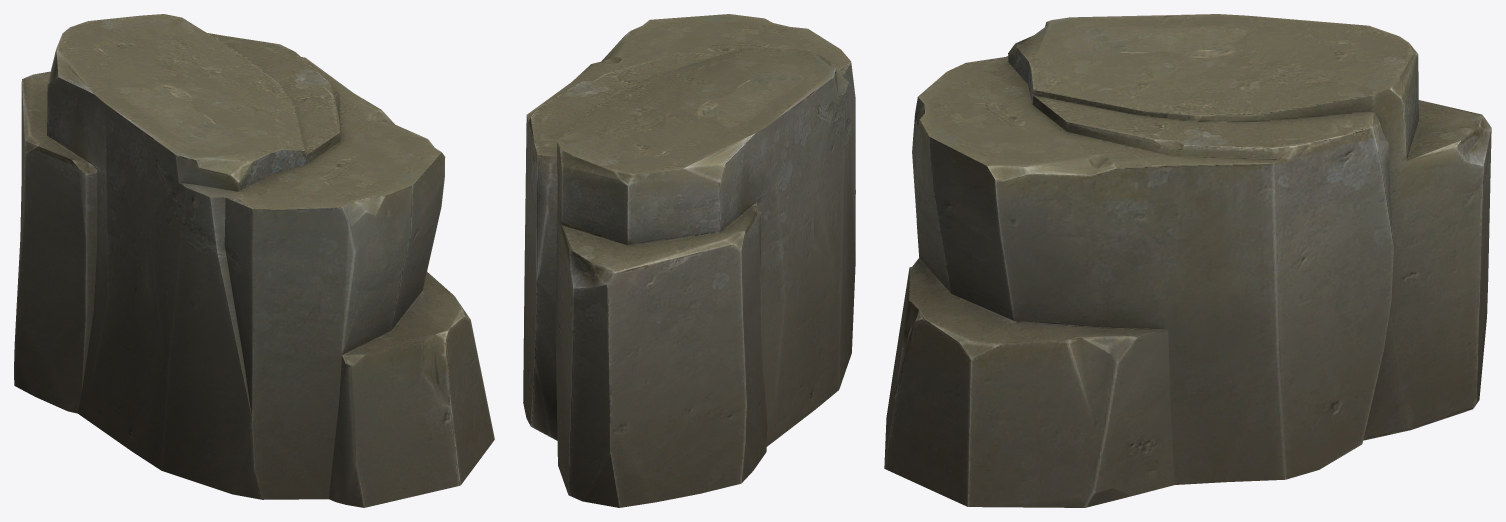
The model's file is riveredge_rock009a.fbx.
The picture shows the model from 3 angles, left to right: view 1: azimuth 30°, elevation 25°; view 2: azimuth 150°, elevation 25°; view 3: azimuth 270°, elevation 25°; orthographic projection. The views are drawn at different scales.
Parts seen in each view (by area): view 1: riveredge_rock009a; view 2: riveredge_rock009a; view 3: riveredge_rock009a.
Boxes of the visible parts, x1=… form: riveredge_rock009a: x1=14, y1=14, x2=494, y2=507; riveredge_rock009a: x1=523, y1=14, x2=855, y2=507; riveredge_rock009a: x1=884, y1=14, x2=1491, y2=507.
Bounding box in the file's own units: 292 × 289 × 458.
